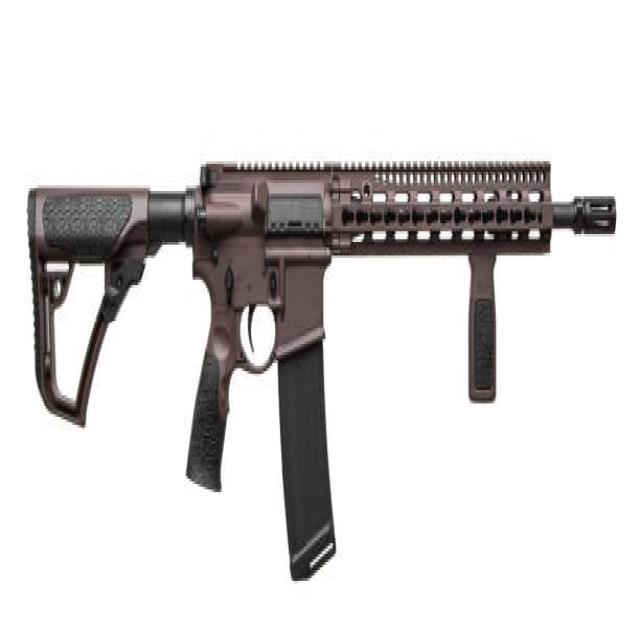rifle: (10, 139, 620, 596)
